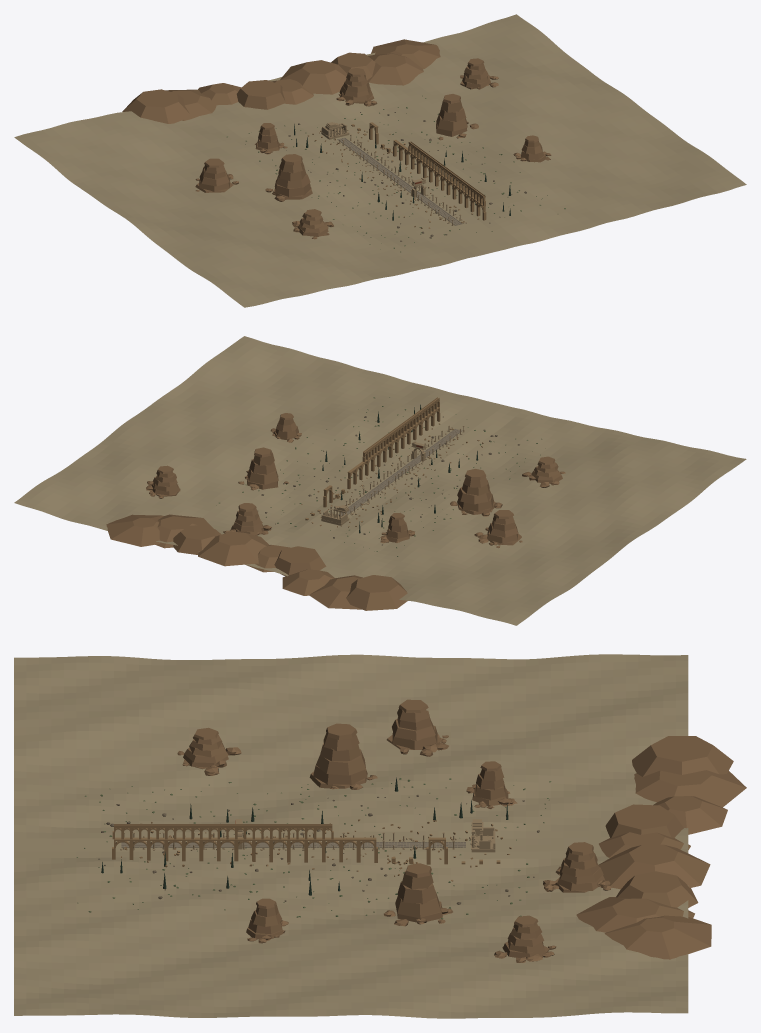
The model's file is desert-ruins.glb.
The picture shows the model from 3 angles, top to bottom: view 1: azimuth 30°, elevation 25°; view 2: azimuth 150°, elevation 25°; view 3: azimuth 270°, elevation 25°; orthographic projection. The views are drawn at different scales.
Parts seen in each view (by area): view 1: Ground, Mesas, Aqueduct, Causeway, Colonnade; view 2: Ground, Mesas, Aqueduct, Causeway, Colonnade; view 3: Ground, Mesas, Aqueduct, Causeway, Temple, Scrub, Colonnade, Cypress.
Boxes of the visible parts, x1=… form: Ground: x1=14, y1=14, x2=746, y2=307; Mesas: x1=122, y1=39, x2=551, y2=239; Aqueduct: x1=351, y1=122, x2=486, y2=220; Causeway: x1=337, y1=137, x2=462, y2=225; Colonnade: x1=337, y1=134, x2=466, y2=225; Ground: x1=14, y1=336, x2=746, y2=625; Mesas: x1=106, y1=413, x2=565, y2=610; Aqueduct: x1=305, y1=397, x2=440, y2=520; Causeway: x1=338, y1=429, x2=462, y2=515; Colonnade: x1=345, y1=425, x2=464, y2=515; Ground: x1=14, y1=654, x2=688, y2=1018; Mesas: x1=177, y1=699, x2=746, y2=962; Aqueduct: x1=112, y1=824, x2=500, y2=865; Causeway: x1=121, y1=842, x2=465, y2=847; Temple: x1=469, y1=819, x2=495, y2=852; Scrub: x1=76, y1=778, x2=551, y2=919; Colonnade: x1=120, y1=832, x2=456, y2=850; Cypress: x1=101, y1=777, x2=508, y2=895.
Bounding box in the file's own units: 680 × 50.43 × 587.
